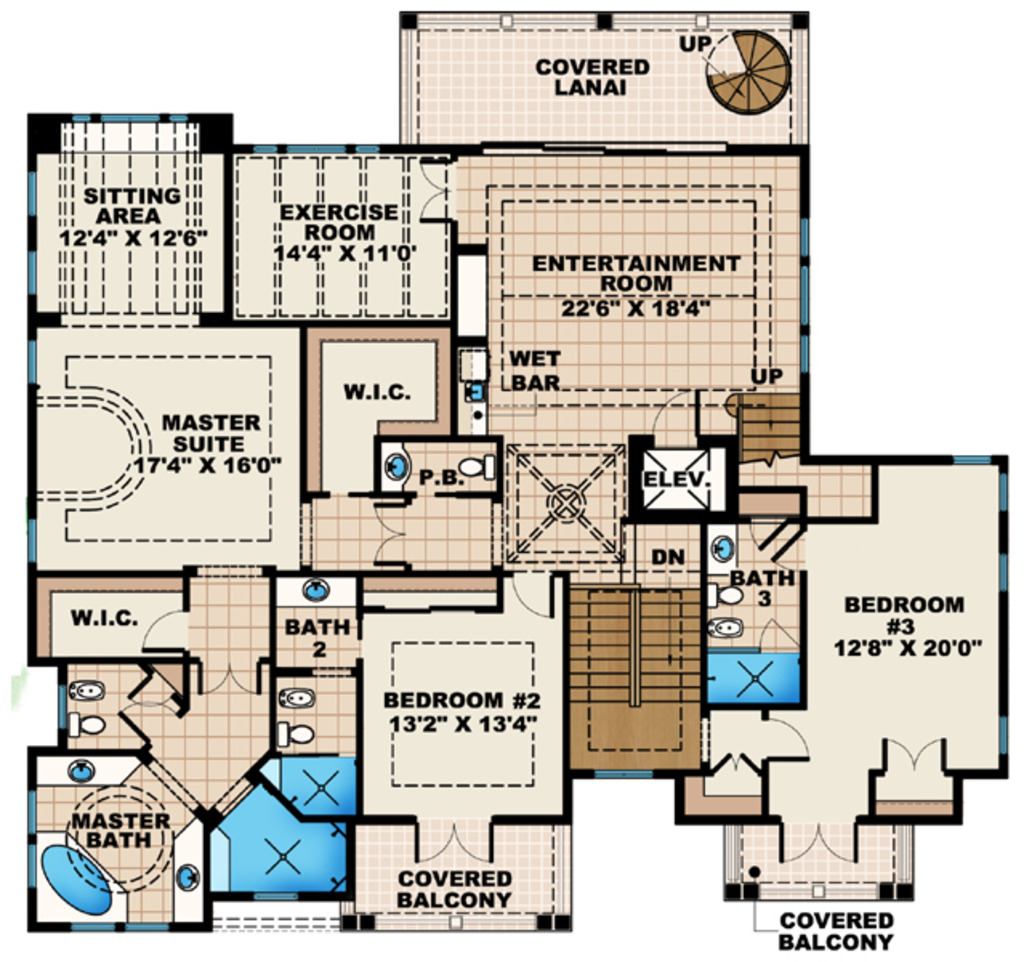door: (778, 816, 862, 865), (410, 818, 497, 864), (197, 655, 266, 702), (416, 157, 457, 223), (113, 704, 177, 745), (765, 713, 812, 767), (511, 569, 557, 624), (880, 735, 942, 775), (370, 502, 407, 566), (140, 608, 188, 653), (756, 619, 795, 654)
large_sink: (276, 716, 318, 753), (68, 707, 109, 744), (456, 453, 499, 487), (708, 578, 742, 614)
small_sink: (32, 758, 136, 789), (275, 574, 357, 613), (172, 828, 202, 921), (378, 441, 411, 494), (705, 526, 736, 575), (274, 684, 321, 714), (63, 677, 109, 705)
stairs: (567, 583, 703, 773), (704, 35, 790, 116)
tub: (35, 838, 117, 924)
windows: (62, 111, 190, 130), (244, 141, 384, 158), (22, 337, 41, 387), (23, 515, 42, 564), (996, 704, 1011, 762), (996, 549, 1011, 593)
